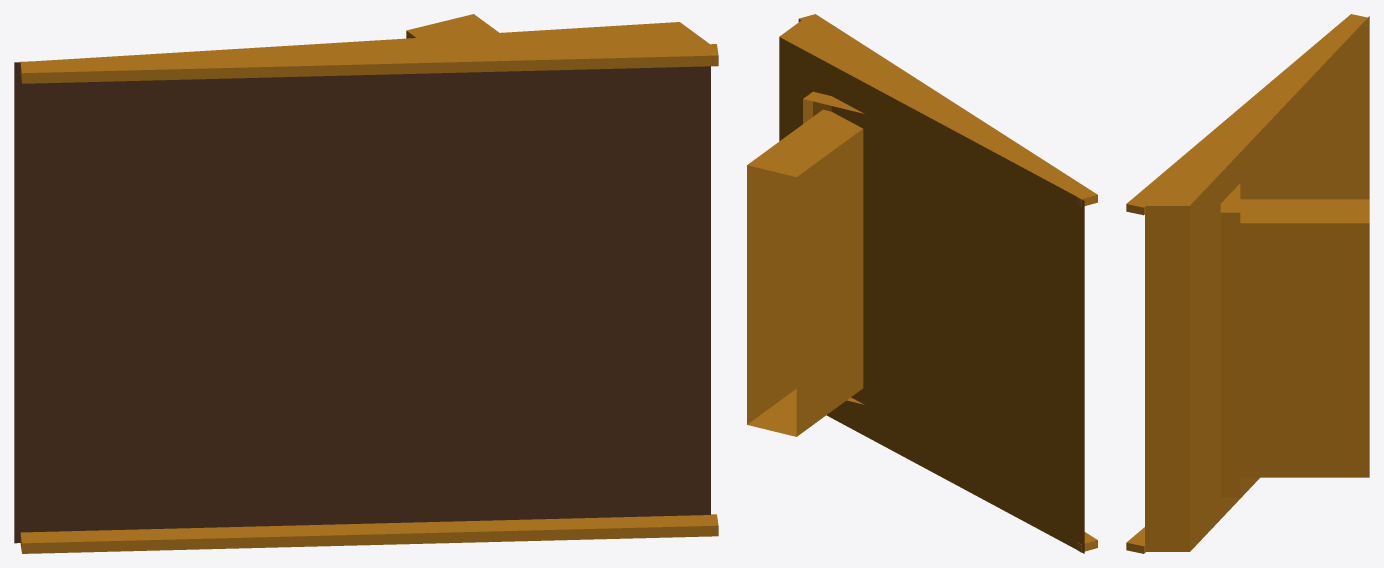
The model's file is ramp.glb.
3 renders of one model, left to right at view 1: azimuth 30°, elevation 25°; view 2: azimuth 150°, elevation 25°; view 3: azimuth 270°, elevation 25°, orthographic. The views are drawn at different scales.
Parts seen in each view (by area): view 1: bridge_11_ramp; view 2: bridge_11_ramp; view 3: bridge_11_ramp.
Part boxes in pixels (x1,y1,x2,y2): bridge_11_ramp: [14, 14, 718, 553]; bridge_11_ramp: [747, 14, 1097, 553]; bridge_11_ramp: [1126, 14, 1369, 553].
Size of the model in its own units: 16.31 by 13.6 by 8.66.
